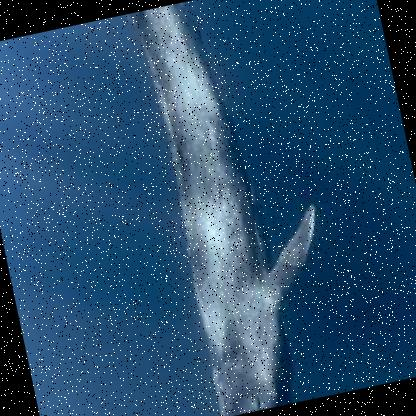blue_whale: (111, 0, 373, 415)
